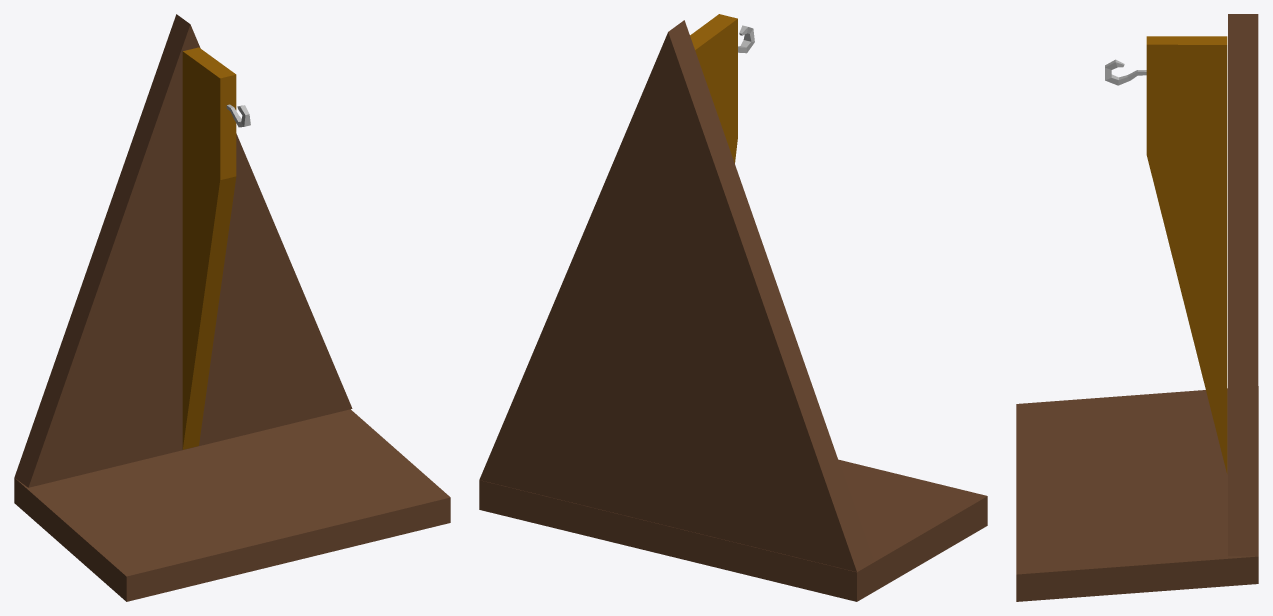
File: BalancaMadeira.fbx
3 views of the same model, side by side, from view 1: azimuth 30°, elevation 25°; view 2: azimuth 150°, elevation 25°; view 3: azimuth 270°, elevation 25° (orthographic). The views are drawn at different scales.
Parts seen in each view (by area): view 1: BalancaMadeira; view 2: BalancaMadeira; view 3: BalancaMadeira.
Boxes of the visible parts, x1,y1,x2,y2 form: BalancaMadeira: (14,14,450,601); BalancaMadeira: (479,14,987,601); BalancaMadeira: (1016,14,1258,601).
Size of the model in its own units: 4000 by 5498 by 2400.
